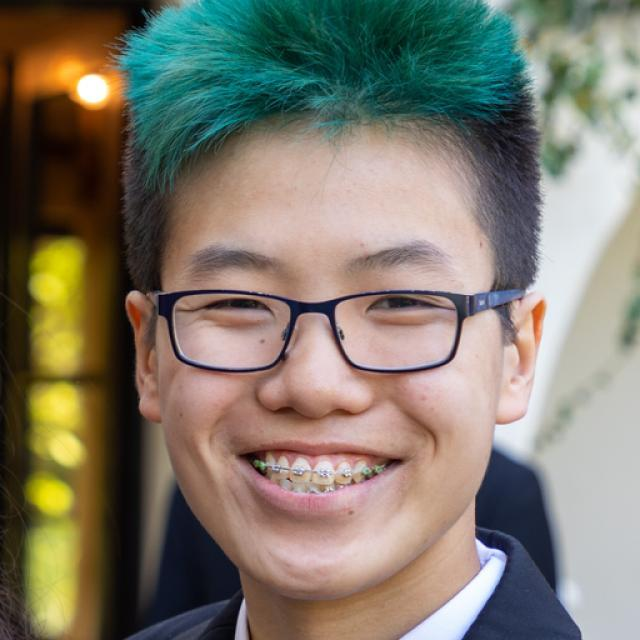happy: (160, 124, 500, 592)
